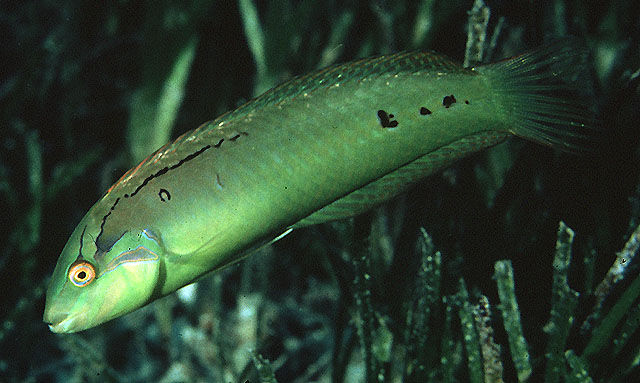fish: (43, 36, 602, 334)
